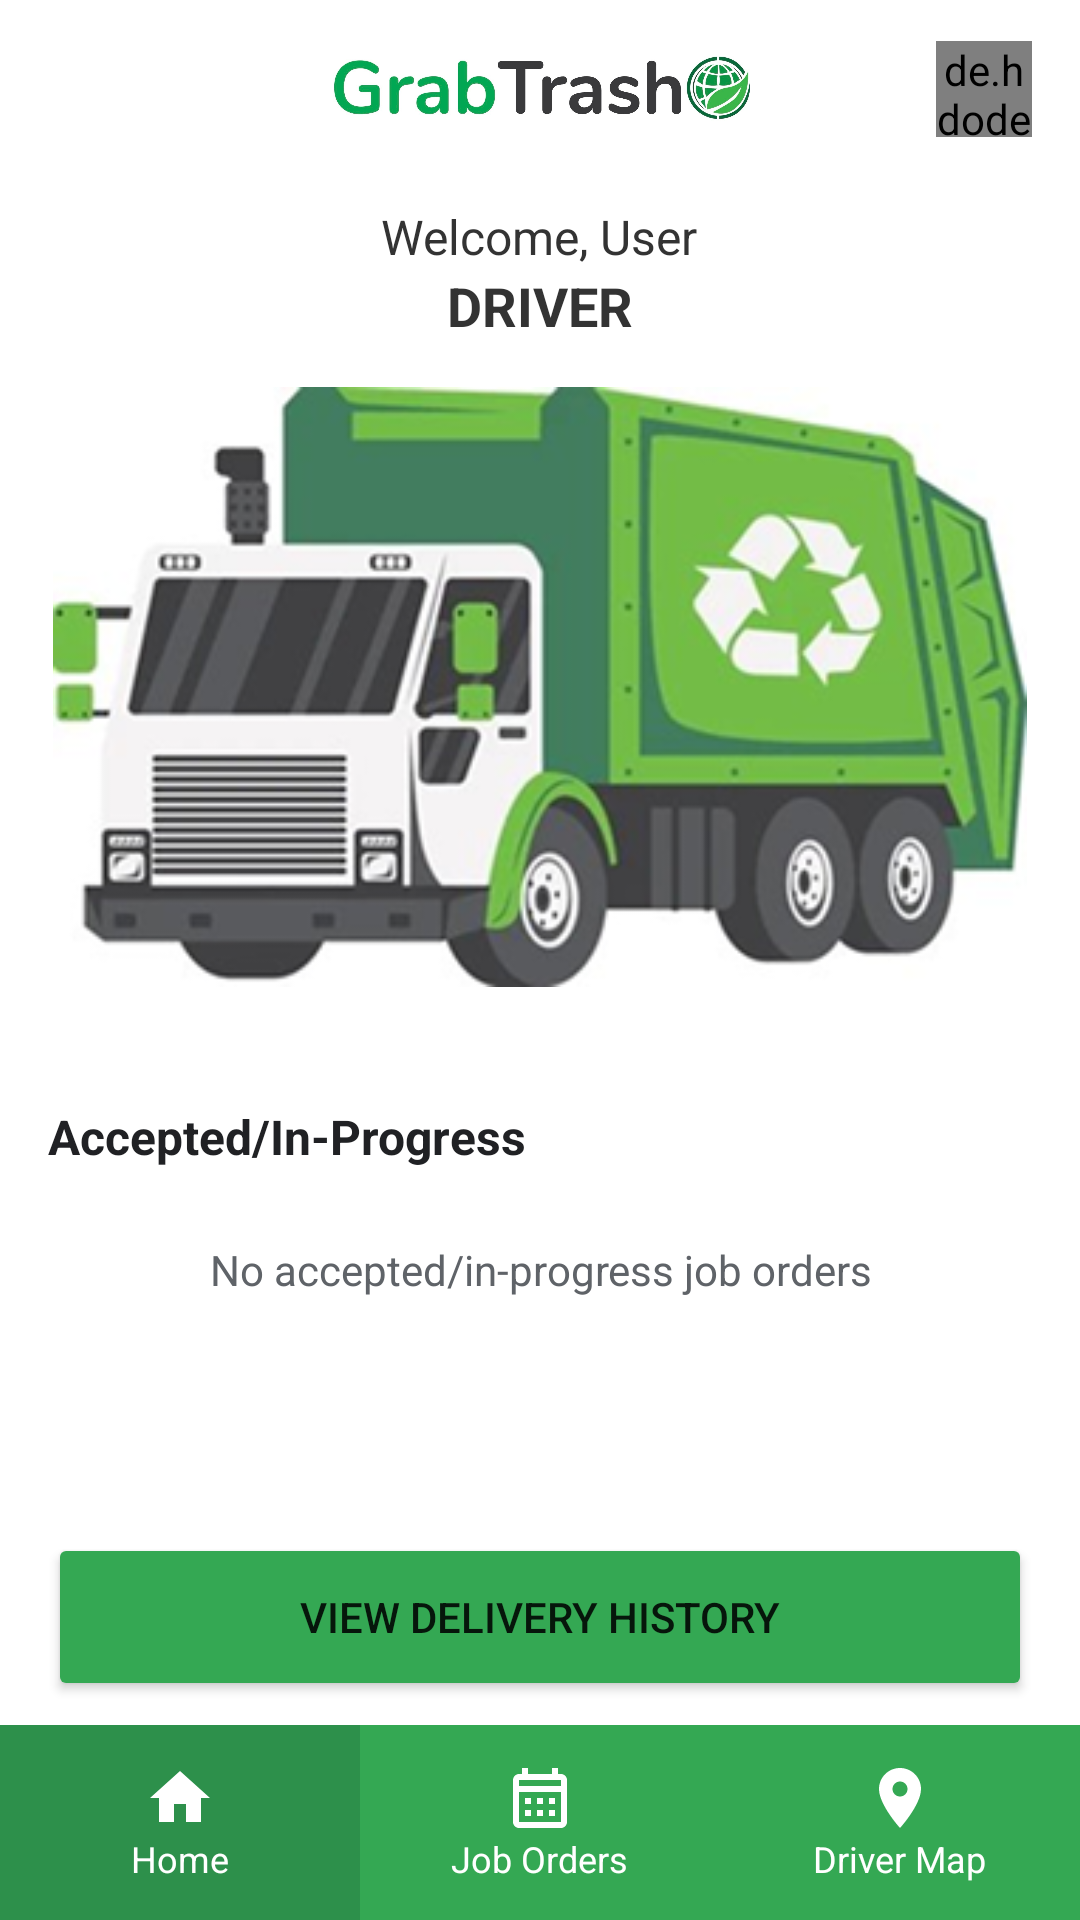

Icon click points for this 1080w x 1920h phone screenshot, format (x=x, y=y):
calendar: (x=540, y=1798)
location: (x=900, y=1798)
